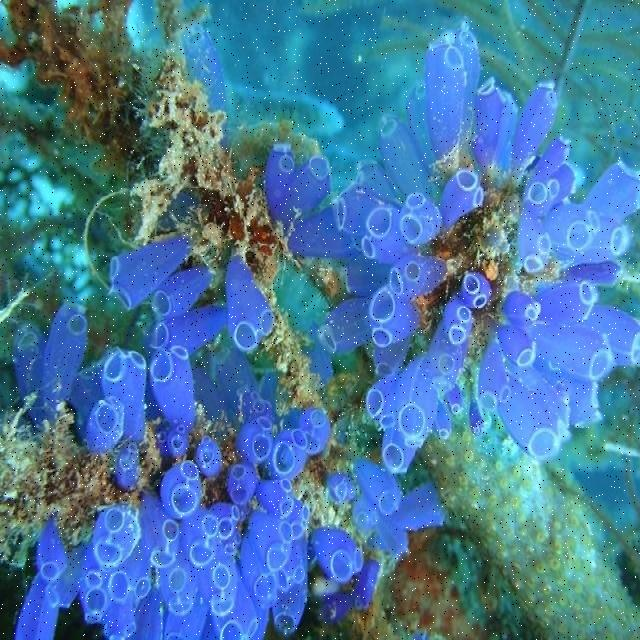reefs: (296, 17, 639, 472), (15, 408, 331, 639), (14, 264, 224, 486), (353, 464, 444, 563), (264, 150, 338, 237), (110, 238, 187, 311), (229, 257, 271, 347), (309, 527, 362, 583)
